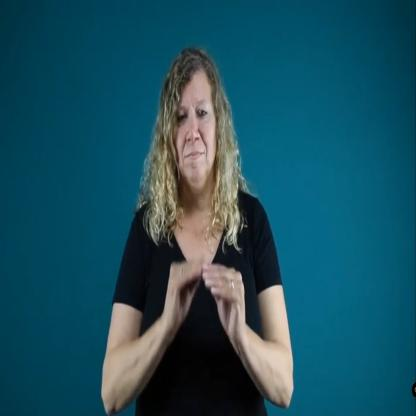Fix: (101, 40, 294, 416)
